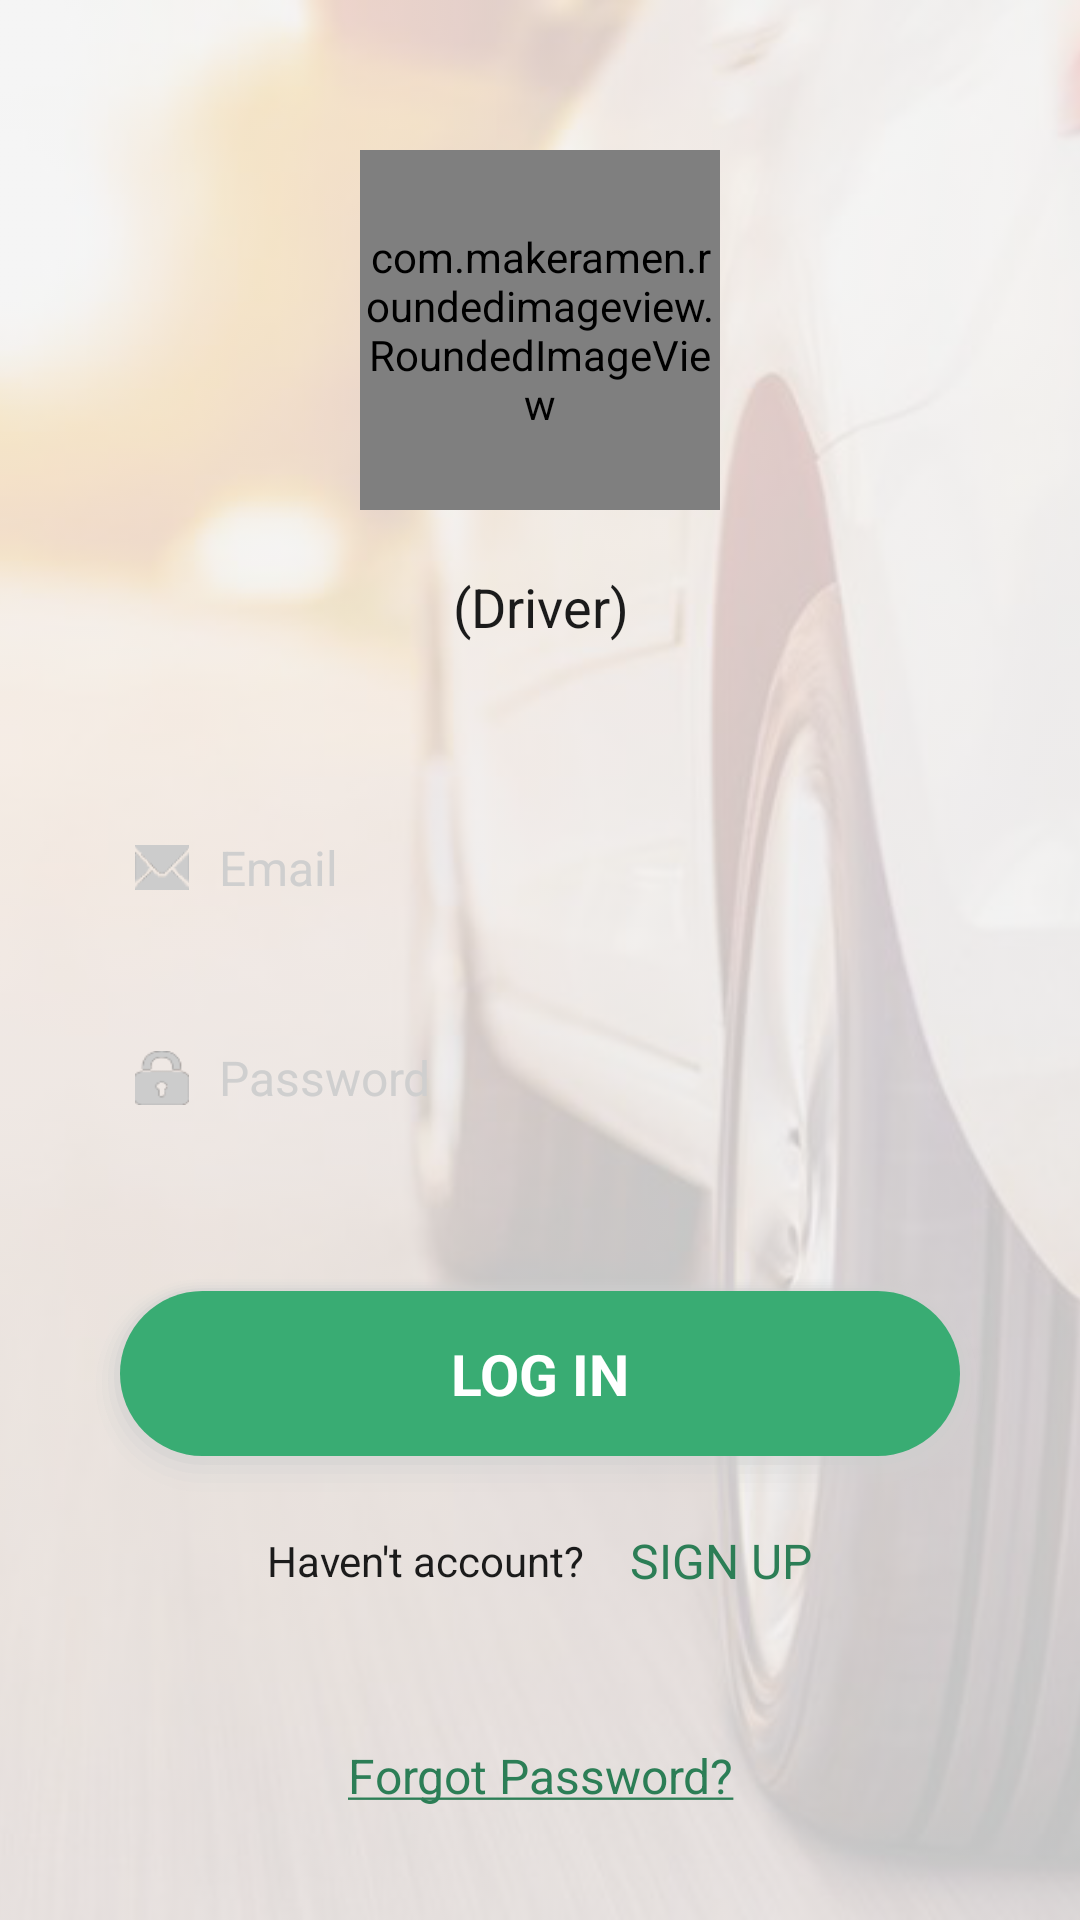

Point at icon controls on the screen. Image size 1080×1920, points as (x=x, y=y).
lock: (x=162, y=1078)
